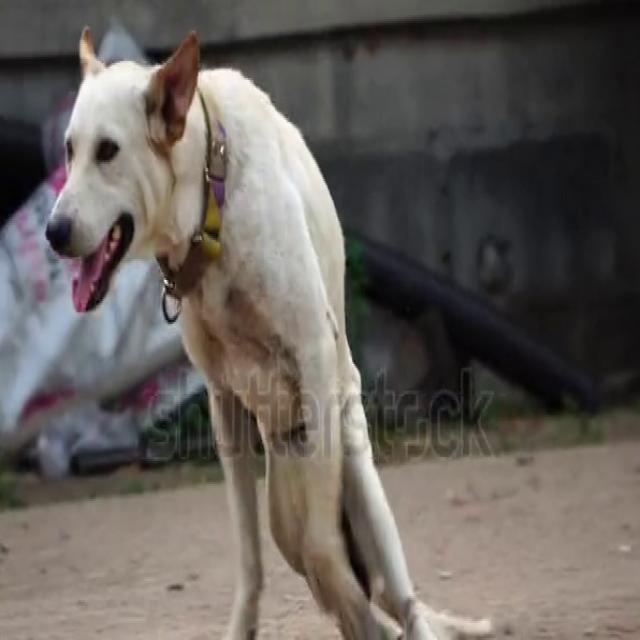injured-animals: (41, 21, 495, 638)
